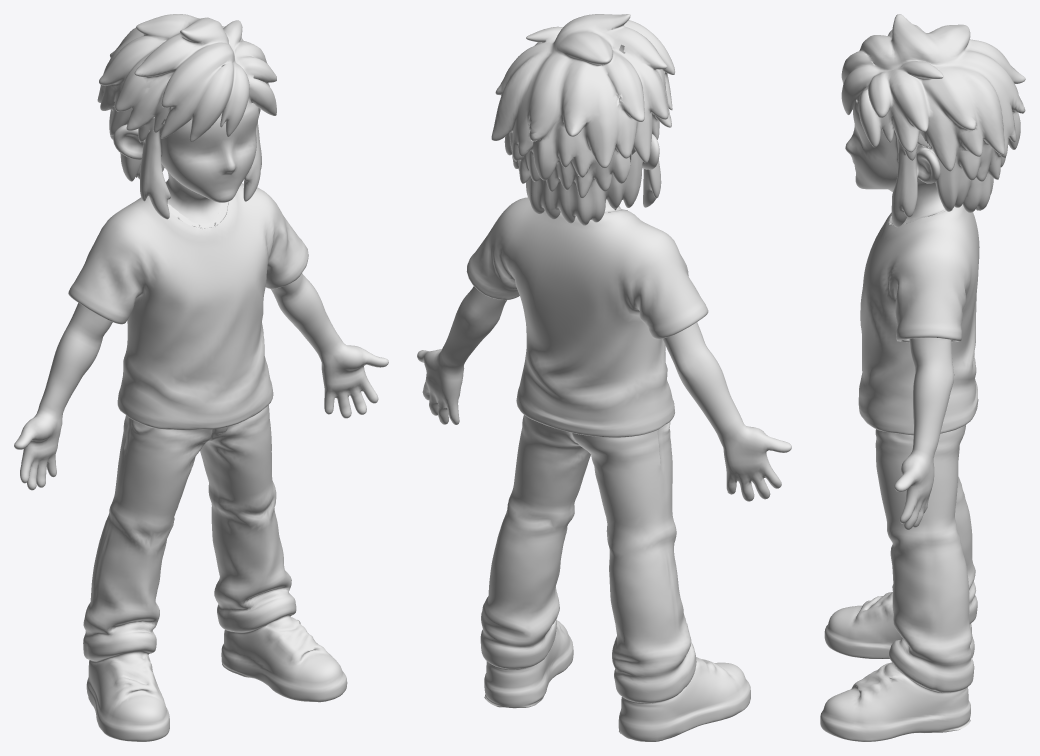
The picture shows the model from 3 angles, left to right: view 1: azimuth 30°, elevation 25°; view 2: azimuth 150°, elevation 25°; view 3: azimuth 270°, elevation 25°; orthographic projection. The views are drawn at different scales.
Parts seen in each view (by area): view 1: tripo_node_b0b6dc5f-a31e-4ecd-8ffe-7c5da2edd599; view 2: tripo_node_b0b6dc5f-a31e-4ecd-8ffe-7c5da2edd599; view 3: tripo_node_b0b6dc5f-a31e-4ecd-8ffe-7c5da2edd599.
Part boxes in pixels (x1=…): tripo_node_b0b6dc5f-a31e-4ecd-8ffe-7c5da2edd599: x1=14, y1=14, x2=388, y2=741; tripo_node_b0b6dc5f-a31e-4ecd-8ffe-7c5da2edd599: x1=417, y1=14, x2=791, y2=741; tripo_node_b0b6dc5f-a31e-4ecd-8ffe-7c5da2edd599: x1=820, y1=14, x2=1025, y2=741.
Size of the model in its own units: 0.5733 by 0.9976 by 0.28.
1 material, 1 textured.
